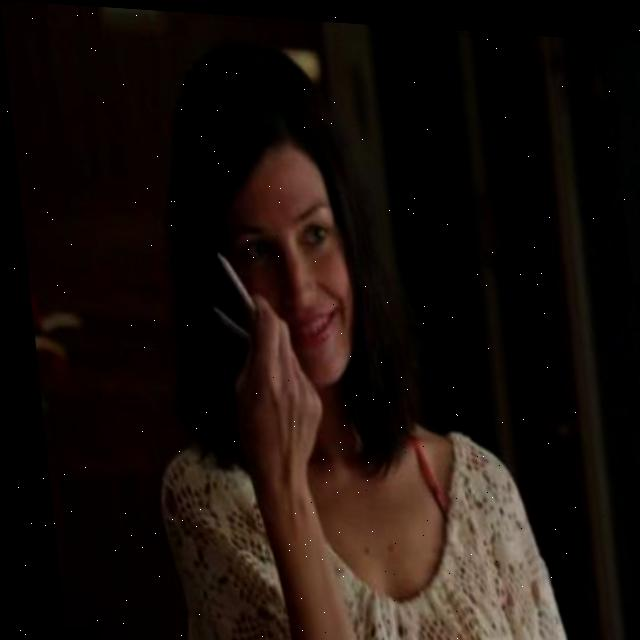cigarette: (212, 249, 255, 317)
